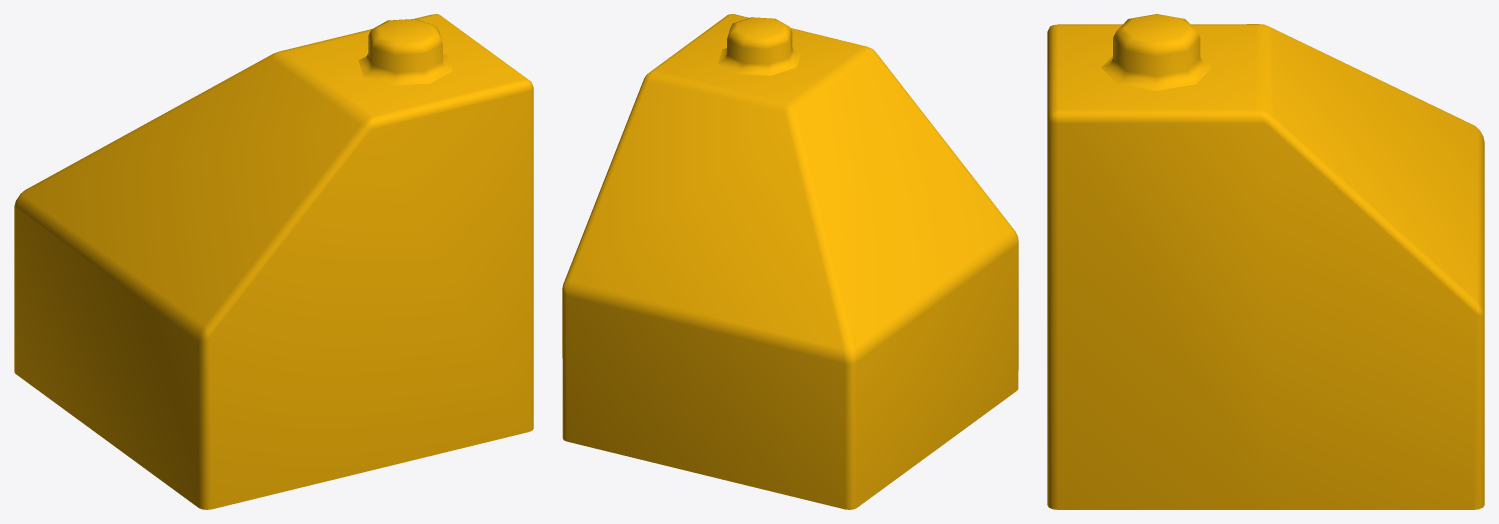
Rendered from Two_Half_Bevels.fbx.
3 views of the same model, side by side, from view 1: azimuth 30°, elevation 25°; view 2: azimuth 150°, elevation 25°; view 3: azimuth 270°, elevation 25° (orthographic). The views are drawn at different scales.
Visible parts, largest first — view 1: Two_Half_Bevels, Knobs.037; view 2: Two_Half_Bevels, Knobs.037; view 3: Two_Half_Bevels, Knobs.037.
Boxes of the visible parts, x1,y1,x2,y2 form: Two_Half_Bevels: (14,14,533,509); Knobs.037: (358,19,452,85); Two_Half_Bevels: (562,14,1018,509); Knobs.037: (718,17,800,75); Two_Half_Bevels: (1047,24,1484,509); Knobs.037: (1101,14,1211,90).
Size of the model in its own units: 1 by 1.1 by 1.
